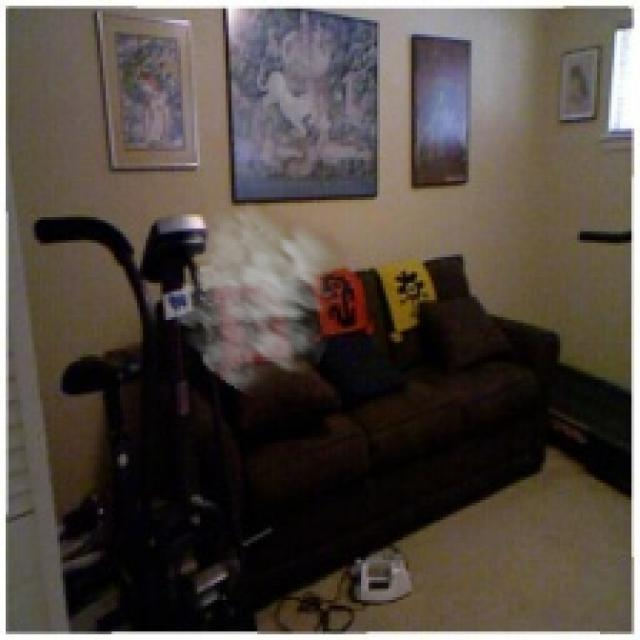smoke: (166, 194, 366, 403)
